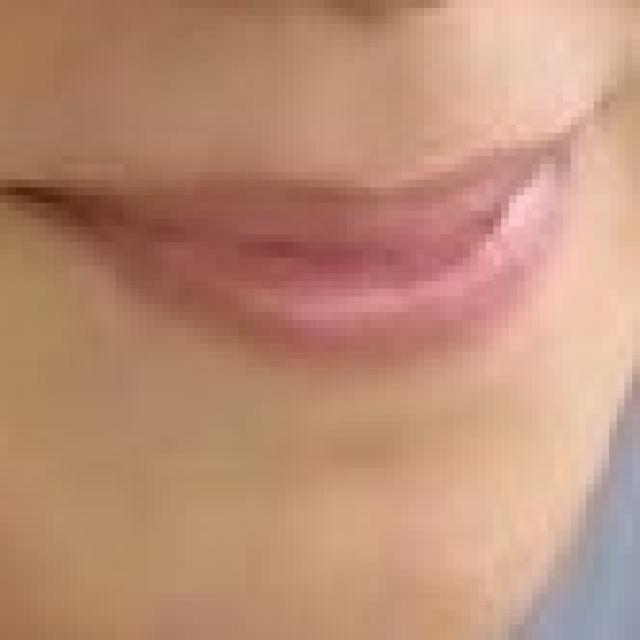closed-mouth: (0, 70, 617, 351)
